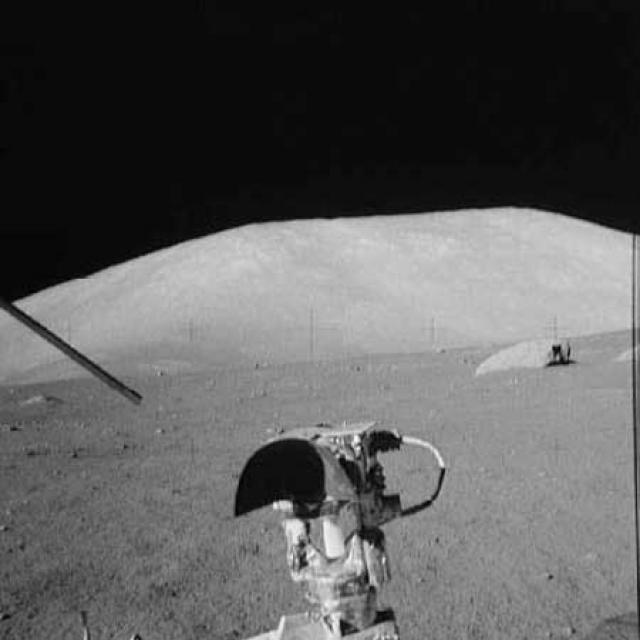artifact: (227, 420, 451, 638), (2, 300, 149, 406)
rock: (471, 327, 578, 375), (23, 388, 64, 406)
